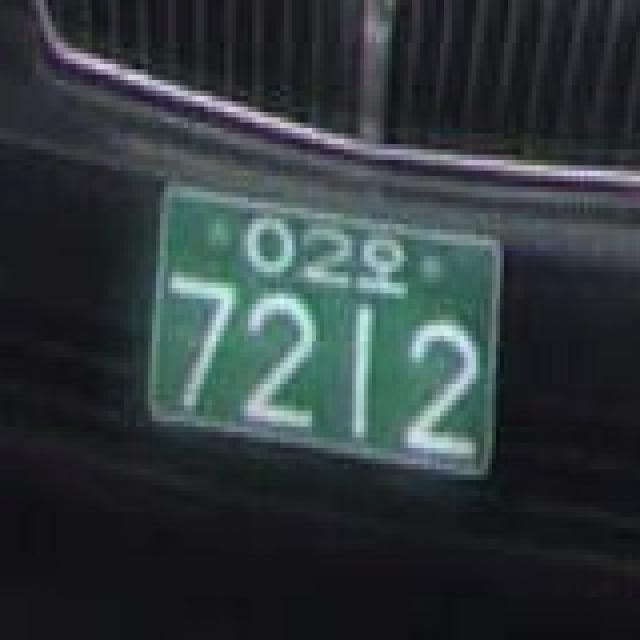0: (242, 206, 294, 282)
1: (347, 302, 387, 455)
2: (404, 312, 488, 472), (244, 289, 320, 442), (300, 222, 354, 292)
7: (172, 262, 234, 418)
license_plate: (147, 178, 499, 496)
o: (356, 233, 416, 297)
